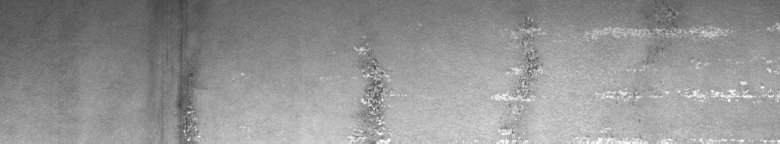hc: (172, 36, 245, 136)
